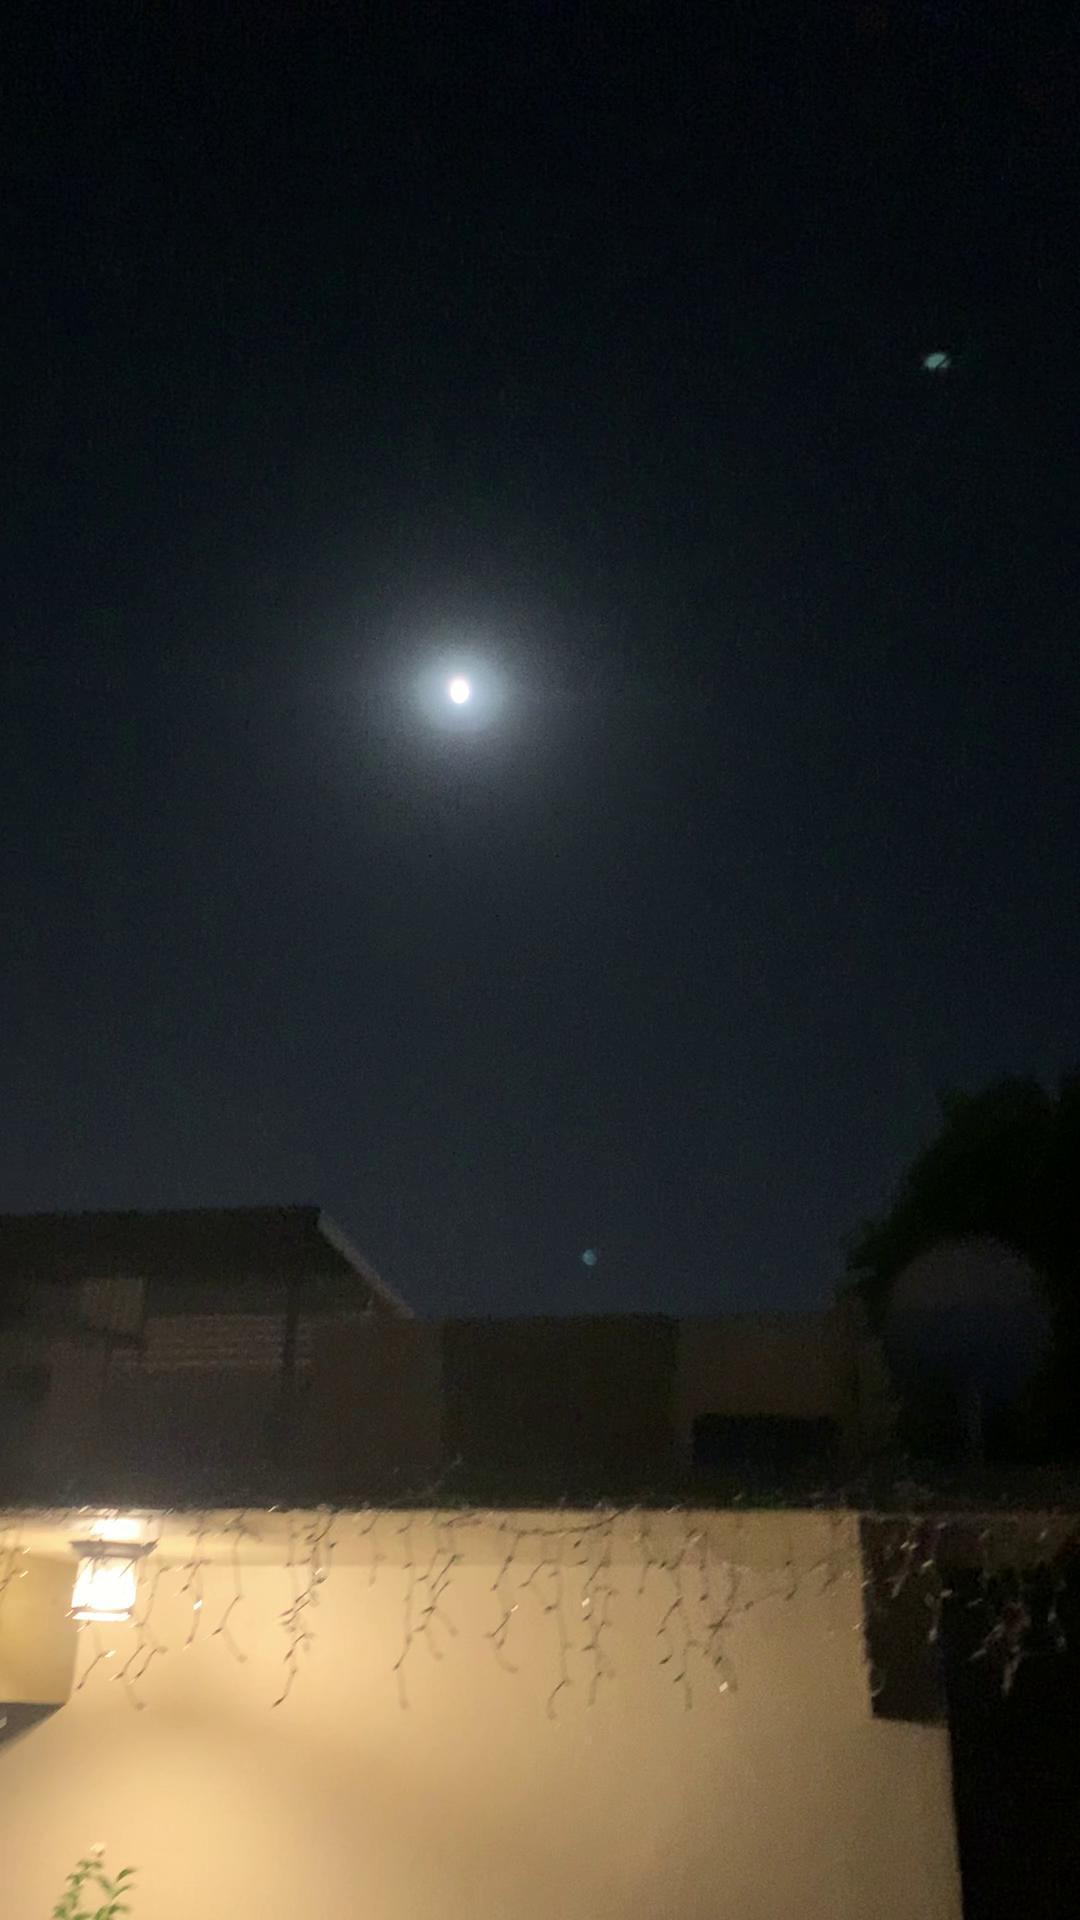moon: (419, 641, 506, 720)
